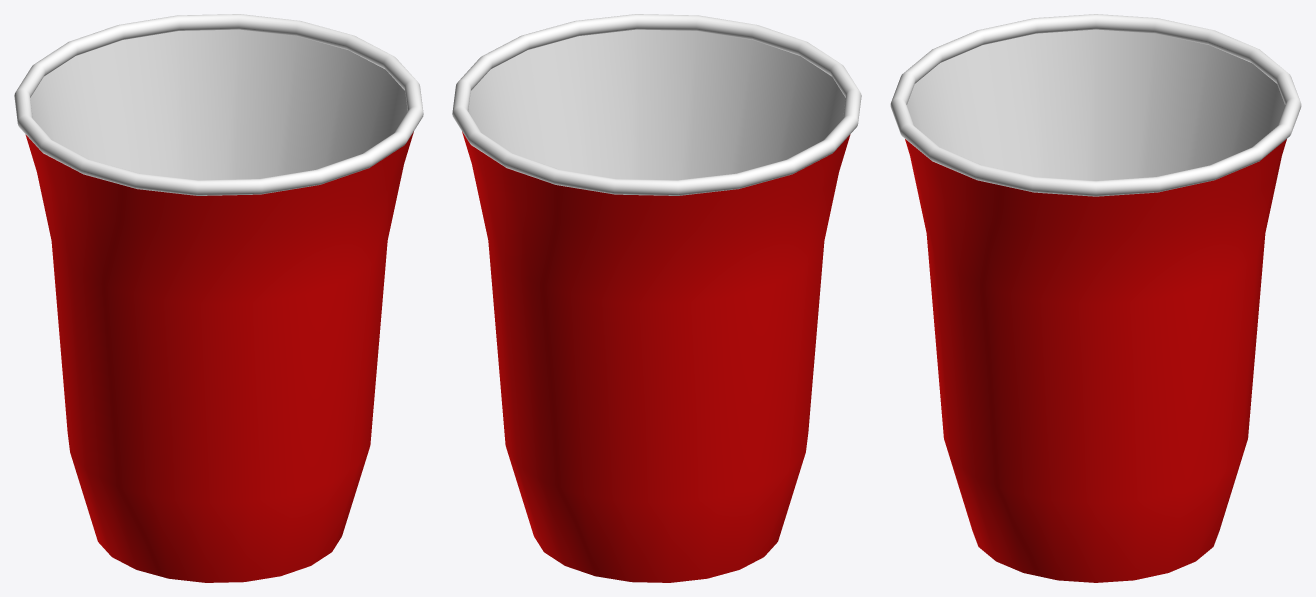
File: CupObj.obj
3 views of the same model, side by side, from view 1: azimuth 30°, elevation 25°; view 2: azimuth 150°, elevation 25°; view 3: azimuth 270°, elevation 25° (orthographic).
Visible parts, largest first — view 1: pasted__pCylinder1 group, pTorus1; view 2: pasted__pCylinder1 group, pTorus1; view 3: pasted__pCylinder1 group, pTorus1.
Part boxes in pixels (box(x1,y1,x2,y2)): pasted__pCylinder1 group: box(25, 29, 413, 582); pTorus1: box(14, 14, 423, 195); pasted__pCylinder1 group: box(462, 29, 850, 582); pTorus1: box(452, 14, 861, 195); pasted__pCylinder1 group: box(905, 29, 1286, 582); pTorus1: box(890, 14, 1301, 196).
Size of what is drawn, in the model's own units: 10.17 by 11.81 by 10.17.
